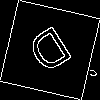D: (25, 25, 80, 83)
